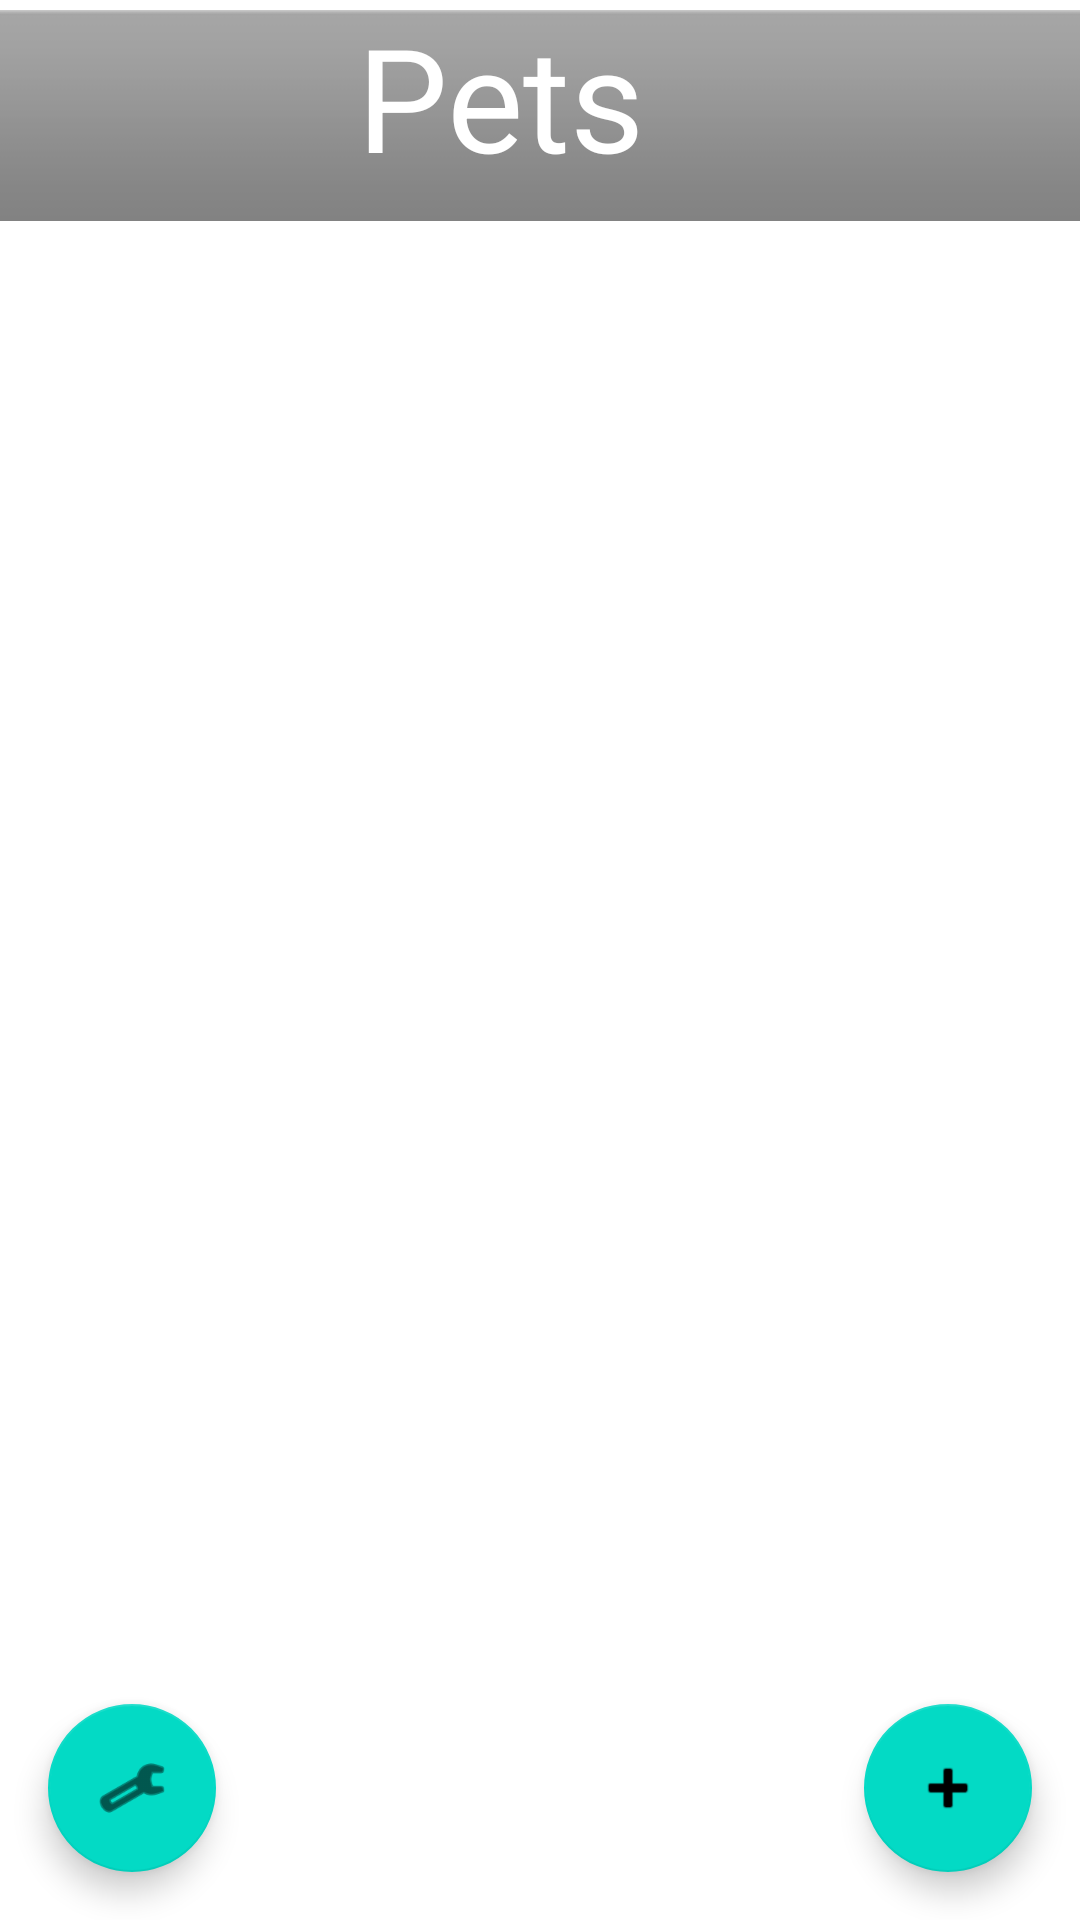

Icon click points for this 1080px x 1920px phone screenshot, format [x,y]:
manage: [132,1788]
